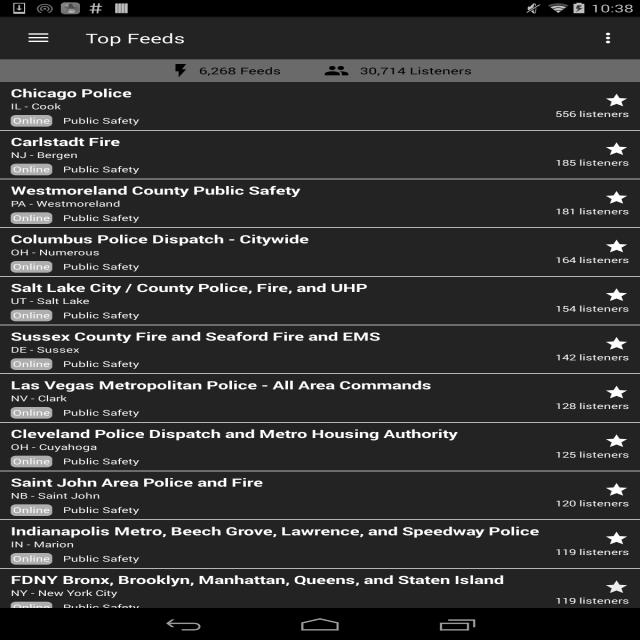ImageButton: (9, 17, 68, 59)
ImageView: (589, 22, 631, 54), (604, 92, 629, 109), (168, 62, 194, 78), (324, 62, 349, 78), (604, 141, 629, 157), (604, 190, 629, 206), (604, 238, 629, 254), (604, 287, 629, 303), (604, 336, 629, 352), (604, 384, 629, 400), (604, 433, 629, 449), (604, 482, 629, 498), (604, 530, 629, 546), (604, 579, 629, 595)
TextView: (11, 523, 540, 539), (11, 572, 504, 587), (11, 377, 432, 393), (10, 426, 458, 441), (11, 329, 380, 344), (11, 280, 368, 295), (10, 231, 308, 247), (11, 183, 300, 198), (10, 475, 264, 490), (10, 85, 132, 101), (85, 29, 185, 47), (11, 134, 120, 149), (360, 64, 472, 77), (10, 198, 120, 209), (10, 246, 100, 258), (199, 64, 281, 77), (11, 588, 117, 598), (11, 490, 100, 501), (63, 212, 139, 224), (63, 504, 139, 516), (556, 108, 630, 120), (556, 254, 630, 266), (556, 546, 630, 558), (11, 442, 97, 452), (63, 115, 139, 126), (63, 163, 139, 174), (63, 261, 139, 272), (63, 358, 139, 369), (63, 407, 139, 418), (63, 553, 139, 564), (556, 157, 630, 168), (556, 206, 630, 217), (556, 303, 630, 314), (556, 401, 630, 412), (556, 449, 630, 460), (556, 595, 630, 606), (10, 296, 90, 306), (10, 344, 80, 355), (63, 310, 139, 320), (63, 456, 139, 466), (63, 602, 139, 612), (11, 538, 74, 550), (556, 352, 630, 362), (556, 498, 630, 508), (11, 150, 78, 160), (11, 392, 66, 403), (10, 100, 60, 112), (11, 115, 52, 127), (11, 212, 52, 224), (11, 261, 52, 273), (11, 358, 52, 370), (11, 407, 52, 419), (11, 504, 52, 516), (11, 553, 52, 565), (11, 164, 52, 175), (11, 310, 52, 321), (11, 456, 52, 467), (11, 602, 52, 613)
